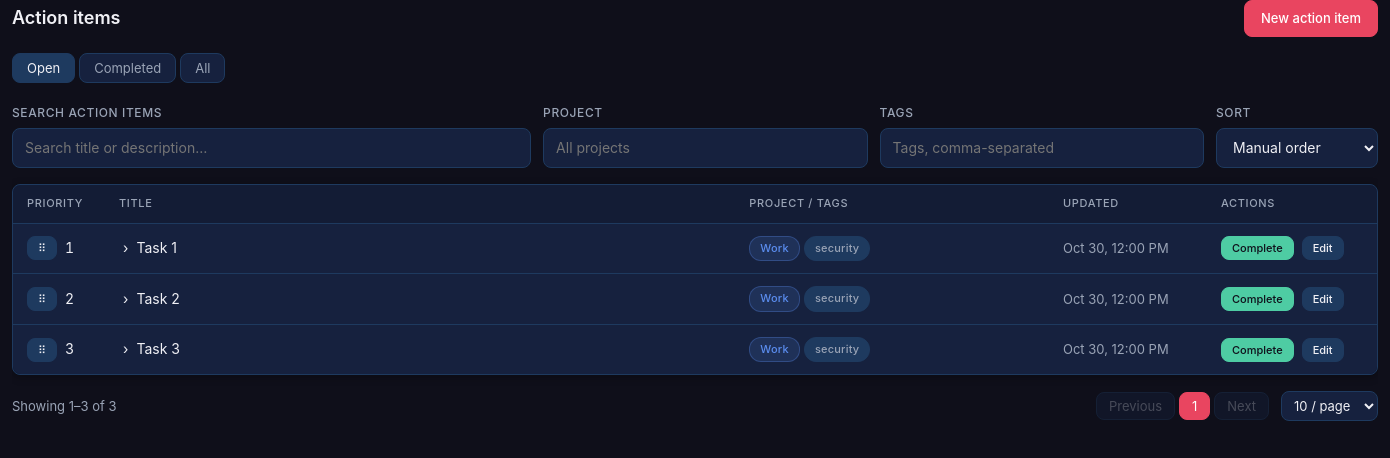
it: ActionItemsIndexPage › ignores late search responses after newer criteria return
Check: the button "› Task 1" is shown, box [119,235,181,262]
Type "old" into the search field labelled "Search action items" at (272,148), box [12,128,531,168]
Wait 300 ms
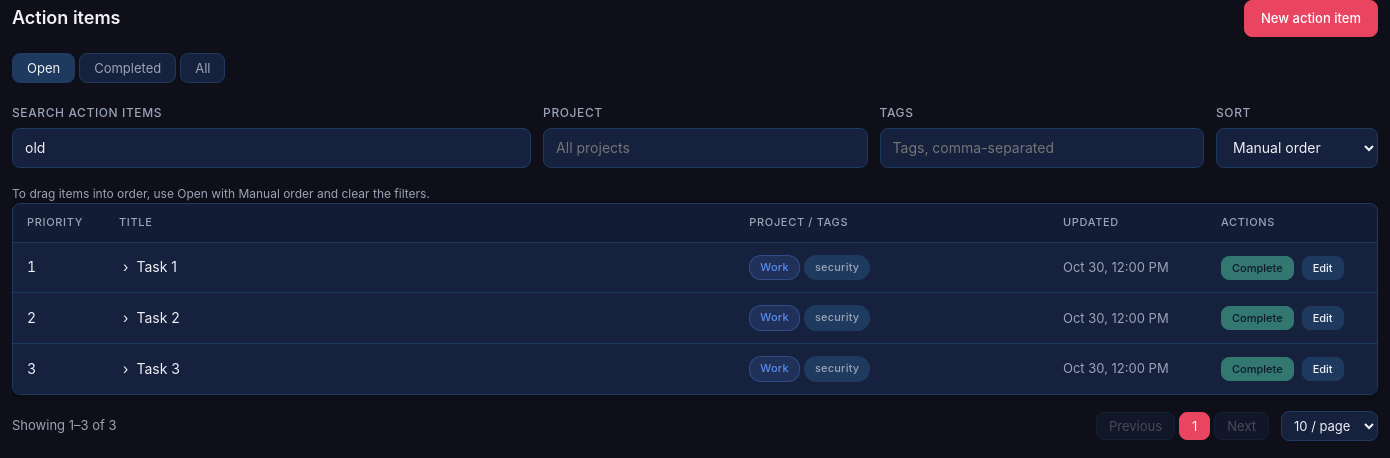
Replace the text in the search field labelled "Search action items" with "new" at (272,148), box [12,128,531,168]
Wait 300 ms
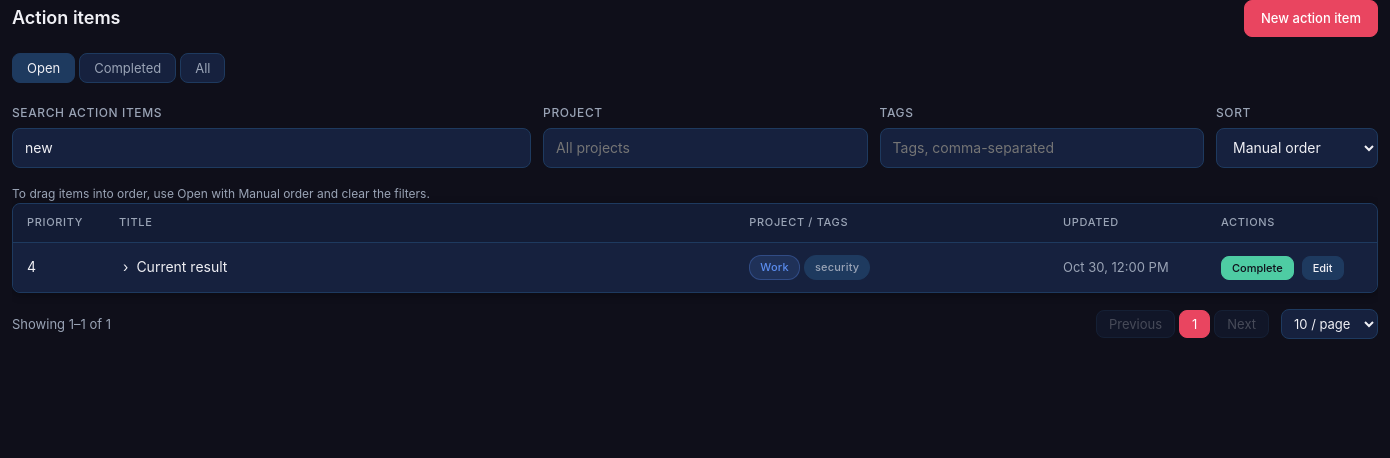
Check: the button "› Current result" is shown, box [119,254,231,281]
